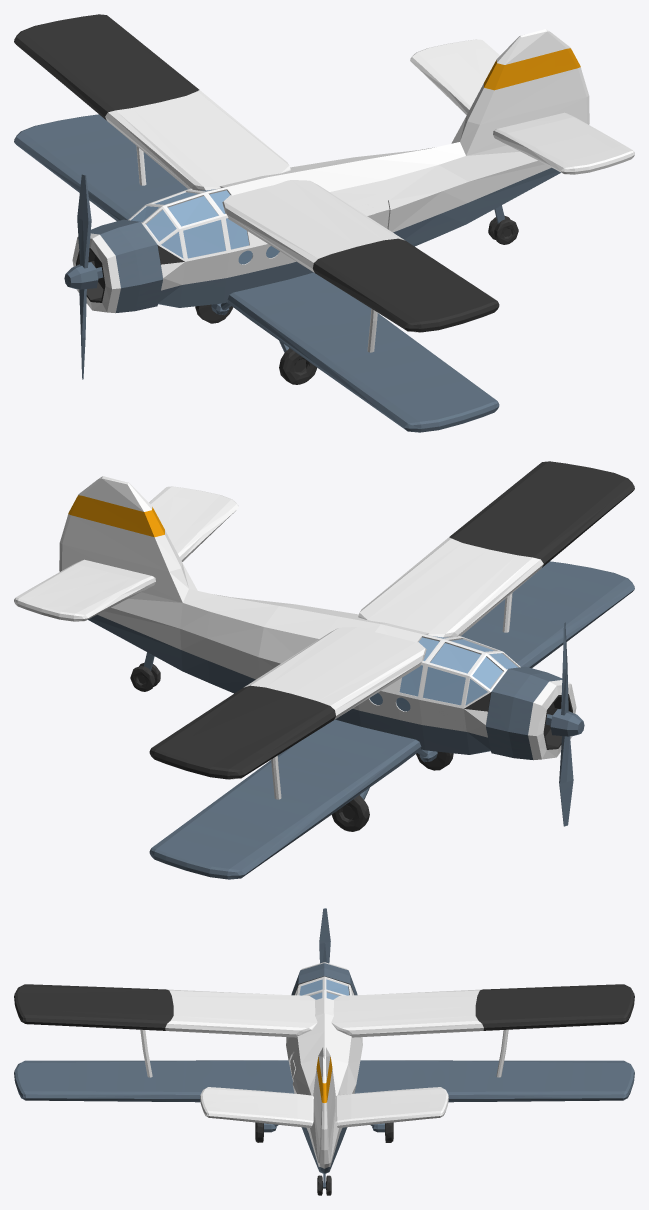
Rendered from aircraft.fbx.
3 renders of one model, top to bottom at view 1: azimuth 30°, elevation 25°; view 2: azimuth 150°, elevation 25°; view 3: azimuth 270°, elevation 25°, orthographic. The views are drawn at different scales.
Visible parts, largest first — view 1: aircraft, wind; view 2: aircraft, wind; view 3: aircraft, wind.
Part boxes in pixels (x1=…): aircraft: x1=14, y1=14, x2=634, y2=432; wind: x1=64, y1=174, x2=98, y2=379; aircraft: x1=14, y1=461, x2=634, y2=879; wind: x1=550, y1=621, x2=584, y2=826; aircraft: x1=14, y1=962, x2=634, y2=1195; wind: x1=319, y1=908, x2=330, y2=963.
Bounding box in the file's own units: 11.57 × 5.37 × 15.61.
